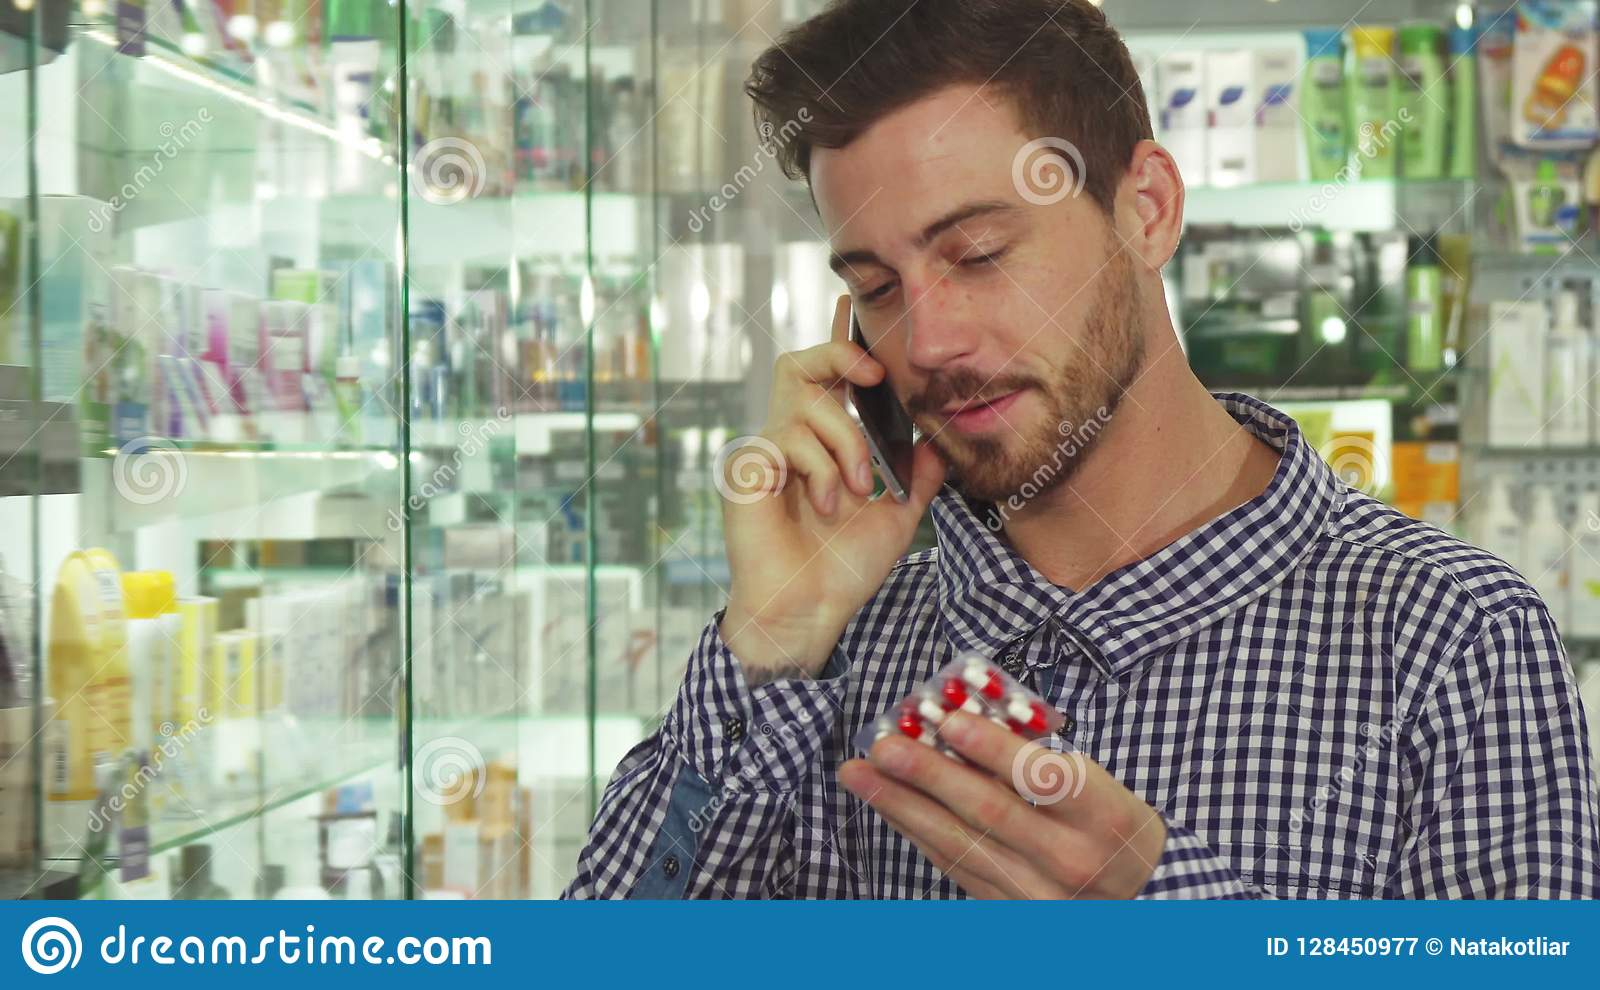phone: (837, 294, 923, 511)
talk: (730, 183, 1059, 597)
